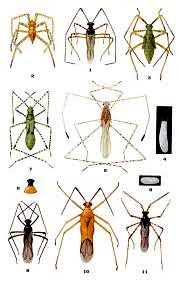Helopeltis-insect: (73, 198, 100, 265), (18, 8, 45, 48), (139, 14, 159, 68), (17, 216, 40, 261), (22, 102, 44, 149), (99, 95, 113, 159), (85, 17, 98, 63), (139, 207, 152, 253)
